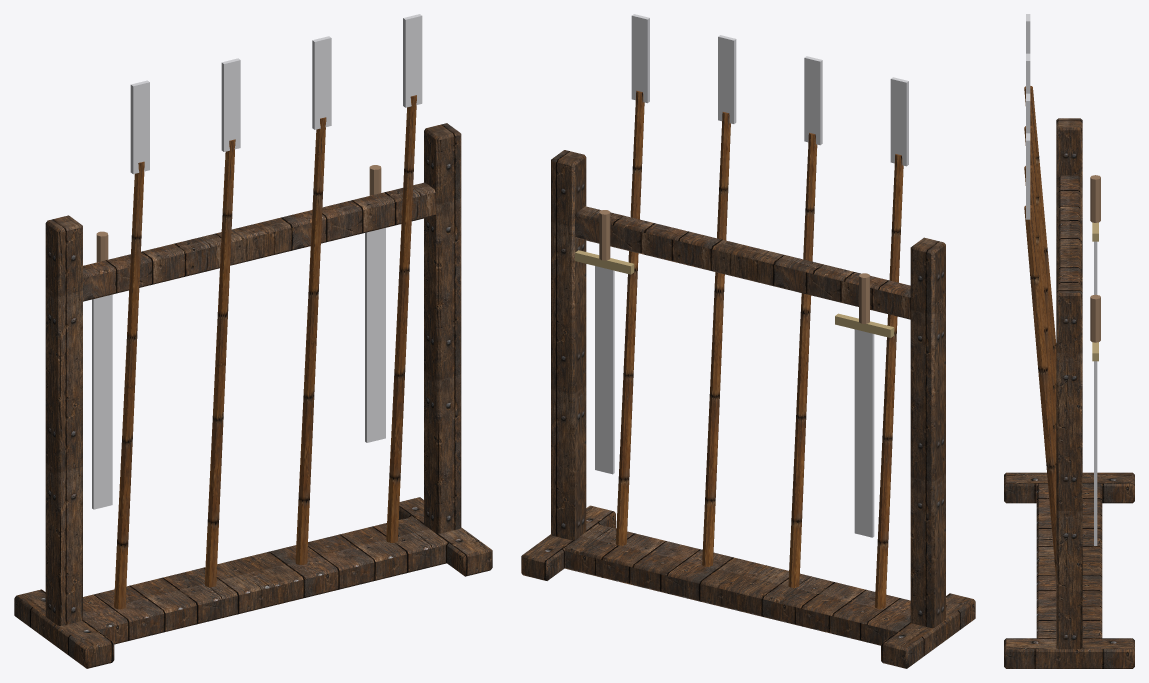
File: weapon-rack-v01.glb
3 renders of one model, left to right at view 1: azimuth 30°, elevation 25°; view 2: azimuth 150°, elevation 25°; view 3: azimuth 270°, elevation 25°, orthographic. The views are drawn at different scales.
Parts seen in each view (by area): view 1: weapon-rack; view 2: weapon-rack; view 3: weapon-rack.
Boxes of the visible parts, x1,y1,x2,y2 form: weapon-rack: (14,14,492,668); weapon-rack: (521,14,975,668); weapon-rack: (1004,14,1134,668).
Bounding box in the file's own units: 1.94 × 2.55 × 0.6.
Materials: 5 (2 with a texture image).
